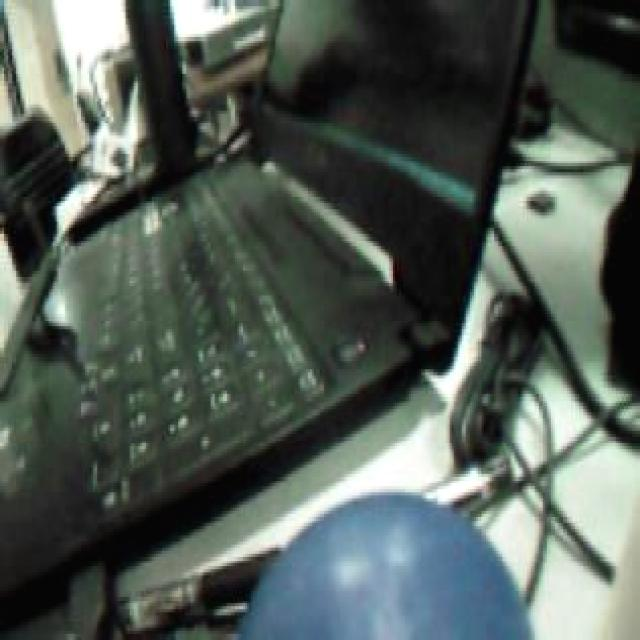BallPurple: (237, 496, 533, 640)
